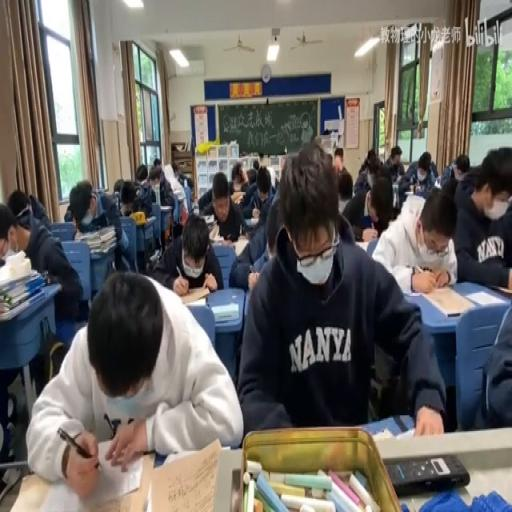calculator: (146, 436, 224, 510), (416, 283, 474, 317), (376, 422, 418, 440), (210, 300, 238, 322), (464, 289, 502, 304), (179, 286, 210, 304), (232, 235, 249, 256), (354, 238, 375, 253), (212, 234, 234, 248), (390, 182, 398, 208), (208, 222, 219, 240), (230, 189, 244, 202), (149, 246, 159, 263), (154, 183, 160, 205), (246, 216, 259, 225), (143, 216, 156, 225), (202, 213, 214, 222), (113, 189, 119, 206), (434, 176, 442, 188), (192, 200, 198, 214), (404, 186, 414, 194), (160, 204, 172, 210)
paper: (238, 141, 440, 441), (27, 269, 242, 492), (0, 192, 82, 324), (453, 146, 512, 292), (64, 179, 126, 275), (150, 212, 220, 293), (473, 285, 512, 429), (141, 158, 177, 222), (241, 164, 276, 226), (197, 165, 242, 213), (398, 148, 437, 202), (352, 152, 378, 196), (334, 169, 356, 218), (0, 203, 18, 260), (438, 151, 466, 186), (27, 190, 50, 224), (117, 180, 139, 214), (384, 145, 403, 176), (174, 162, 192, 189), (134, 164, 148, 184), (258, 152, 272, 168), (333, 149, 343, 171), (267, 165, 277, 185), (231, 170, 242, 186), (358, 162, 366, 175), (152, 158, 161, 168), (172, 162, 178, 175), (252, 158, 259, 169), (322, 126, 331, 134)
person: (383, 452, 469, 495), (352, 224, 363, 242), (172, 222, 182, 237)
